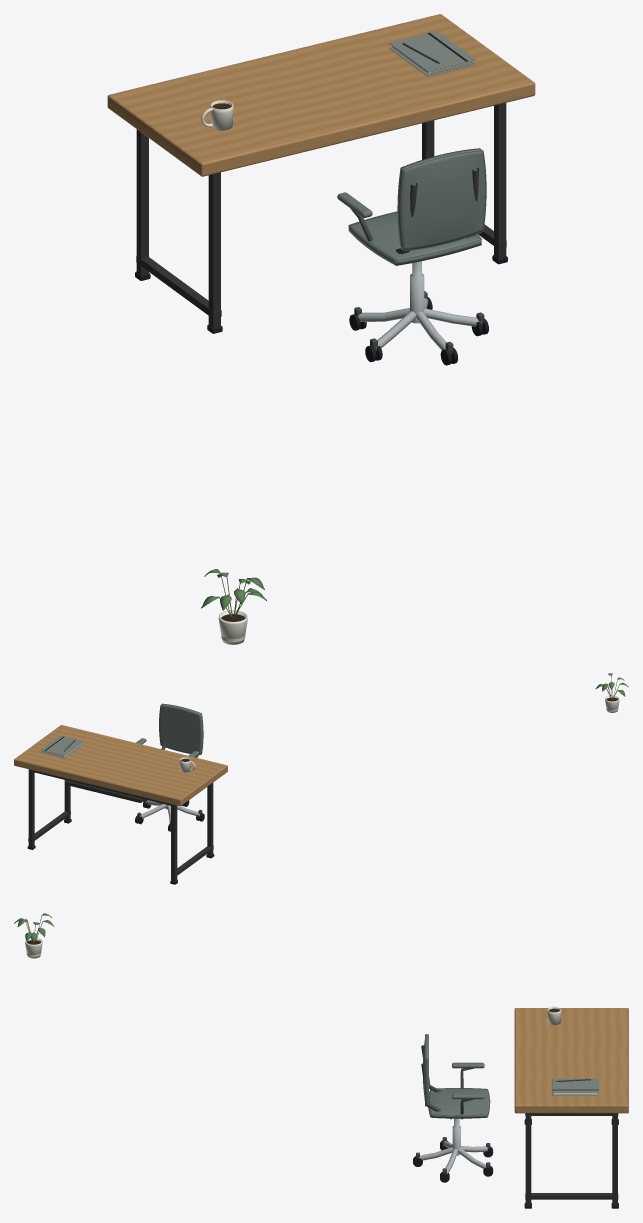
The model's file is studio-furniture.glb.
The picture shows the model from 3 angles, top to bottom: view 1: azimuth 30°, elevation 25°; view 2: azimuth 150°, elevation 25°; view 3: azimuth 270°, elevation 25°; orthographic projection. The views are drawn at different scales.
Parts seen in each view (by area): view 1: Walnut desktop with eased edge, Contoured backrest, Contoured seat, Welded upright.001, Welded upright.003, Linen notebook cover.001, Welded upright, Lower rail; view 2: Walnut desktop with eased edge, Contoured backrest, Welded upright, Welded upright.002, Linen notebook cover.001, Welded upright.001, Cable tray, Rear support rail, Lower rail.001; view 3: Walnut desktop with eased edge, Contoured seat, Linen notebook cover.001, Lower rail.001, Welded upright.003, Welded upright.002.
Part boxes in pixels (x1=…): Walnut desktop with eased edge: x1=107, y1=14, x2=535, y2=176; Contoured backrest: x1=397, y1=148, x2=485, y2=250; Contoured seat: x1=348, y1=212, x2=481, y2=265; Welded upright.001: x1=208, y1=172, x2=220, y2=327; Welded upright.003: x1=494, y1=103, x2=506, y2=258; Linen notebook cover.001: x1=389, y1=31, x2=475, y2=71; Welded upright: x1=136, y1=129, x2=148, y2=274; Lower rail: x1=136, y1=256, x2=221, y2=318; Walnut desktop with eased edge: x1=14, y1=725, x2=227, y2=806; Contoured backrest: x1=159, y1=704, x2=203, y2=754; Welded upright: x1=171, y1=804, x2=177, y2=881; Welded upright.002: x1=28, y1=769, x2=34, y2=846; Linen notebook cover.001: x1=41, y1=736, x2=83, y2=755; Welded upright.001: x1=207, y1=783, x2=213, y2=855; Cable tray: x1=64, y1=780, x2=144, y2=802; Rear support rail: x1=32, y1=770, x2=171, y2=805; Lower rail.001: x1=28, y1=811, x2=70, y2=842; Walnut desktop with eased edge: x1=514, y1=1008, x2=628, y2=1113; Contoured seat: x1=428, y1=1088, x2=489, y2=1118; Linen notebook cover.001: x1=552, y1=1078, x2=598, y2=1092; Lower rail.001: x1=525, y1=1193, x2=618, y2=1199; Welded upright.003: x1=525, y1=1113, x2=531, y2=1205; Welded upright.002: x1=612, y1=1113, x2=617, y2=1205.
Bounding box in the file's own units: 6.67 × 1.78 × 8.07.
Materials: 14 (1 with a texture image).
